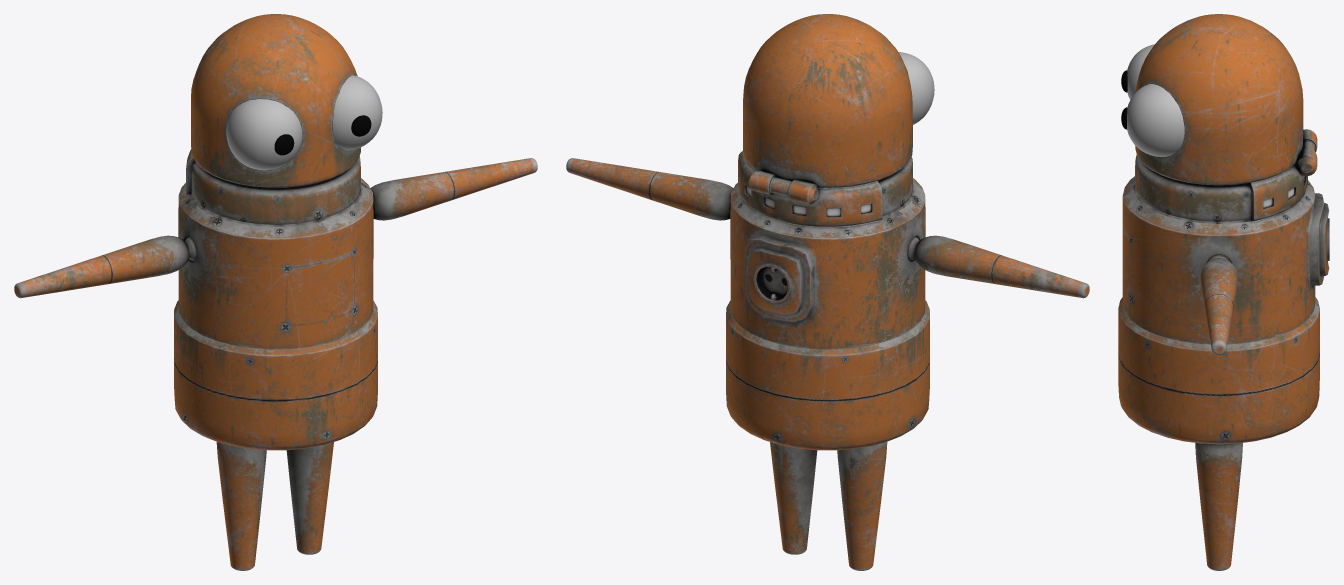
Rendered from semibot.glb.
3 views of the same model, side by side, from view 1: azimuth 30°, elevation 25°; view 2: azimuth 150°, elevation 25°; view 3: azimuth 270°, elevation 25° (orthographic).
Size of the model in its own units: 147 by 146 by 52.68.
1 material, 1 textured.
